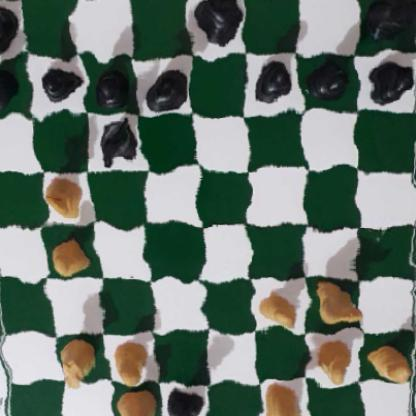black-bishop: (140, 65, 194, 117)
black-king: (194, 0, 243, 49)
black-knight: (96, 114, 144, 169)
black-pawn: (361, 58, 414, 106), (252, 56, 294, 107), (90, 63, 133, 107), (36, 62, 78, 101), (309, 61, 348, 100), (0, 65, 18, 106)
black-queen: (162, 386, 208, 416)
black-rook: (363, 0, 416, 45), (0, 0, 24, 50)
white-bishop: (44, 176, 86, 217), (114, 384, 159, 416)
white-king: (258, 384, 310, 416)
white-knight: (306, 275, 369, 326)
white-pawn: (307, 335, 357, 378), (257, 289, 301, 335), (110, 340, 152, 381), (370, 342, 412, 379), (48, 241, 89, 277)
white-rook: (55, 341, 105, 389)
